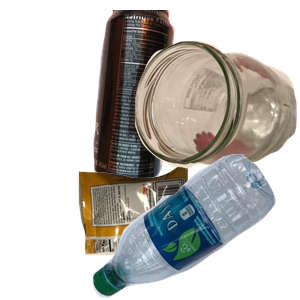glass: (132, 38, 300, 199)
metal: (91, 10, 258, 188)
plastic: (90, 154, 300, 300)
trash: (76, 159, 259, 300)
